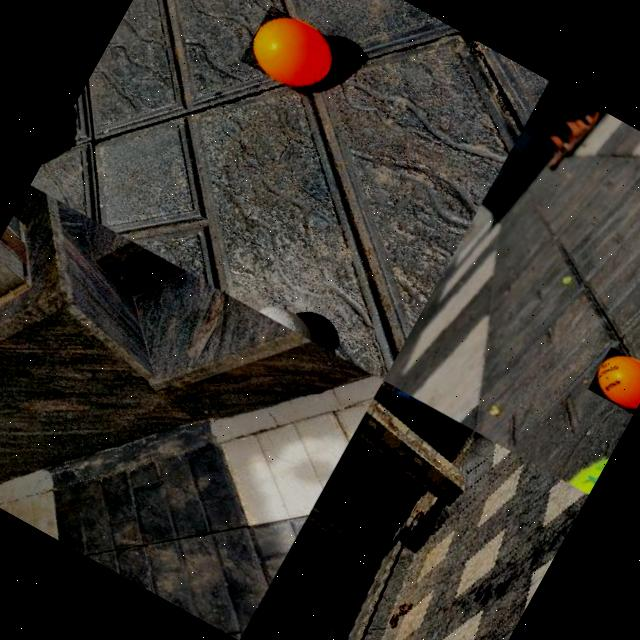ping-pong-ball: (239, 4, 341, 100), (586, 345, 640, 415)
